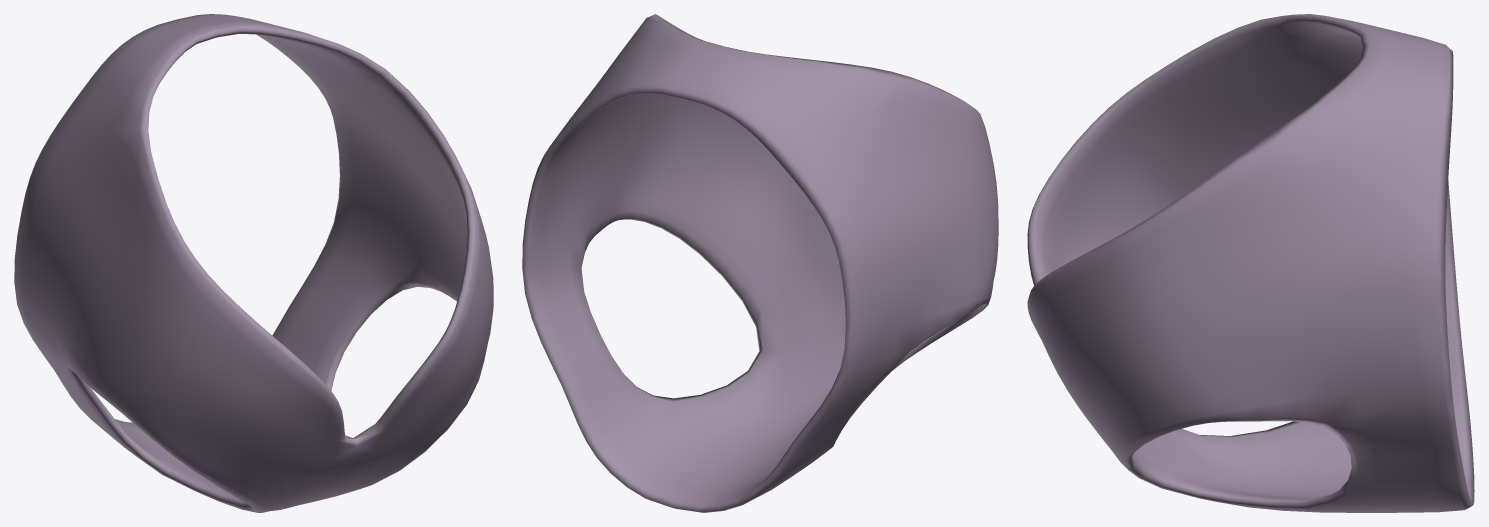
3 renders of one model, left to right at view 1: azimuth 30°, elevation 25°; view 2: azimuth 150°, elevation 25°; view 3: azimuth 270°, elevation 25°, orthographic. The views are drawn at different scales.
Visible parts, largest first — view 1: 3_cancan_dress_body0_model0.003; view 2: 3_cancan_dress_body0_model0.003; view 3: 3_cancan_dress_body0_model0.003.
Part boxes in pixels (bbox=[...]): 3_cancan_dress_body0_model0.003: bbox=[14, 14, 493, 512]; 3_cancan_dress_body0_model0.003: bbox=[522, 14, 998, 512]; 3_cancan_dress_body0_model0.003: bbox=[1027, 14, 1474, 512].
Size of the model in its own units: 10.92 by 12.17 by 10.86.
